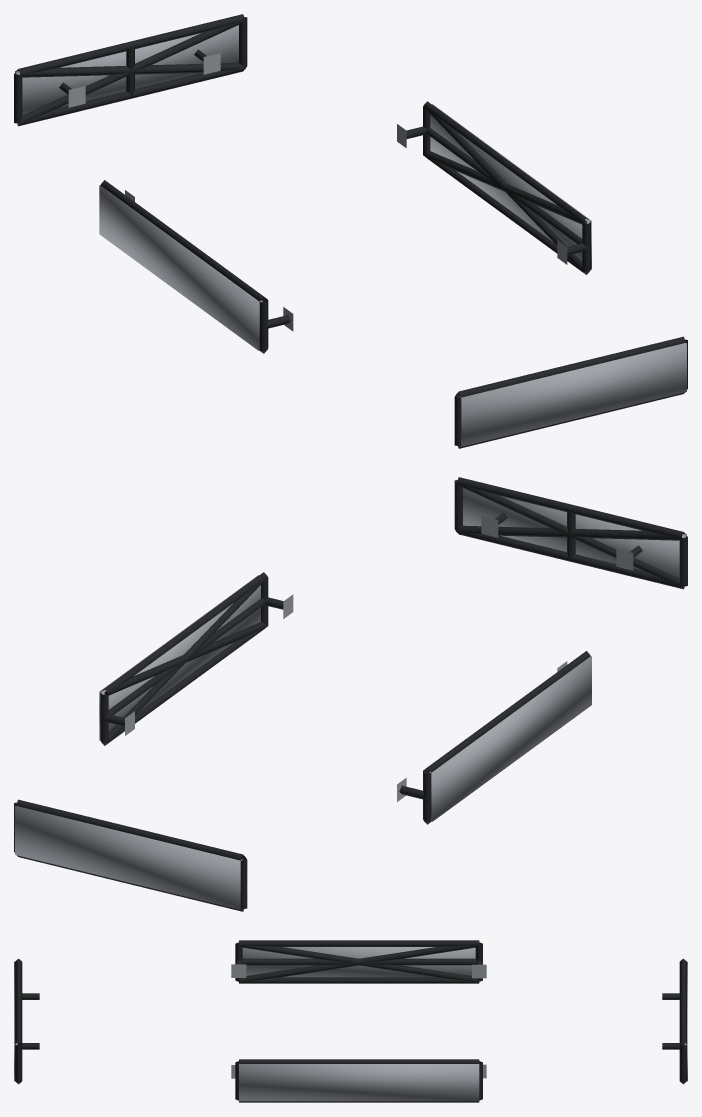
Rendered from bancroft_centelha_protecao.glb.
The picture shows the model from 3 angles, top to bottom: view 1: azimuth 30°, elevation 25°; view 2: azimuth 150°, elevation 25°; view 3: azimuth 270°, elevation 25°; orthographic projection. The views are drawn at different scales.
Parts seen in each view (by area): view 1: Protection_front_Level3_Details, Protection_left_Level3_Details, Protection_rear_Level1_Details, Protection_rear_Level3_Details, Protection_right_Level1_Details, Protection_rear_Level2_Details, Protection_right_Level2_Details, Protection_right_Level3_Details, Protection_front_Level1_Details, Protection_left_Level1_Details; view 2: Protection_rear_Level3_Details, Protection_left_Level3_Details, Protection_front_Level1_Details, Protection_front_Level3_Details, Protection_right_Level1_Details, Protection_front_Level2_Details, Protection_right_Level2_Details, Protection_right_Level3_Details, Protection_rear_Level1_Details, Protection_left_Level1_Details; view 3: Protection_right_Level3_Details, Protection_left_Level2_Details, Protection_left_Level1_Details, Protection_left_Level3_Details, Protection_right_Level1_Details, Protection_rear_Level1_Details, Protection_front_Level1_Details.
Boxes of the visible parts, x1,y1,x2,y2 form: Protection_front_Level3_Details: [459, 343, 686, 446]; Protection_left_Level3_Details: [99, 185, 262, 350]; Protection_rear_Level1_Details: [14, 14, 247, 126]; Protection_rear_Level3_Details: [15, 25, 238, 115]; Protection_right_Level1_Details: [397, 101, 590, 274]; Protection_rear_Level2_Details: [16, 20, 245, 125]; Protection_right_Level2_Details: [423, 107, 589, 274]; Protection_right_Level3_Details: [430, 104, 591, 269]; Protection_front_Level1_Details: [454, 336, 687, 448]; Protection_left_Level1_Details: [100, 180, 293, 353]; Protection_rear_Level3_Details: [15, 806, 242, 909]; Protection_left_Level3_Details: [428, 656, 591, 821]; Protection_front_Level1_Details: [454, 477, 687, 589]; Protection_front_Level3_Details: [463, 488, 686, 578]; Protection_right_Level1_Details: [100, 572, 293, 745]; Protection_front_Level2_Details: [456, 483, 685, 588]; Protection_right_Level2_Details: [101, 578, 267, 745]; Protection_right_Level3_Details: [99, 575, 260, 740]; Protection_rear_Level1_Details: [14, 799, 247, 911]; Protection_left_Level1_Details: [397, 651, 590, 824]; Protection_right_Level3_Details: [239, 1064, 479, 1101]; Protection_left_Level2_Details: [238, 942, 479, 981]; Protection_left_Level1_Details: [231, 940, 486, 983]; Protection_left_Level3_Details: [242, 947, 475, 977]; Protection_right_Level1_Details: [231, 1059, 486, 1102]; Protection_rear_Level1_Details: [662, 958, 686, 1084]; Protection_front_Level1_Details: [15, 958, 39, 1084].
Bounding box in the file's own units: 2.15 × 0.354 × 4.99.
Materials: 1 (1 with a texture image).
